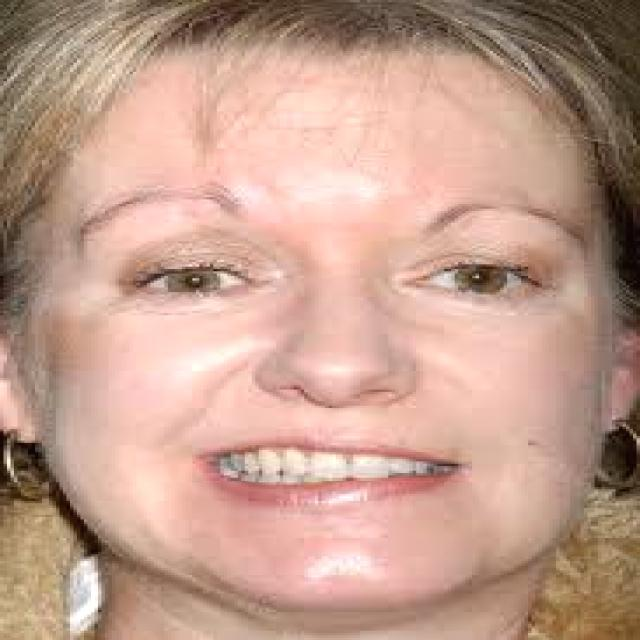stroke_face: (0, 2, 640, 619)
